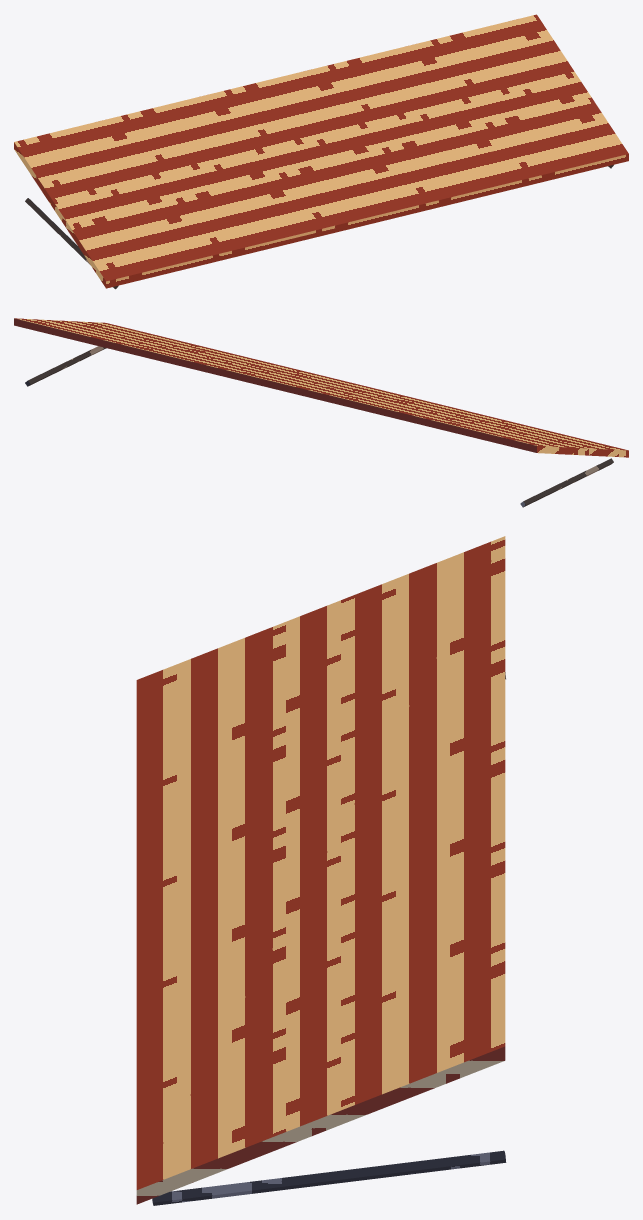
File: wtown.porch__canvas.glb
The picture shows the model from 3 angles, top to bottom: view 1: azimuth 30°, elevation 25°; view 2: azimuth 150°, elevation 25°; view 3: azimuth 270°, elevation 25°; orthographic projection. The views are drawn at different scales.
Parts seen in each view (by area): view 1: kit_roof, kit_rods; view 2: kit_roof, kit_rods; view 3: kit_roof, kit_rods.
Boxes of the visible parts, x1=… form: kit_roof: x1=14, y1=14, x2=628, y2=288; kit_rods: x1=25, y1=165, x2=613, y2=289; kit_roof: x1=14, y1=318, x2=628, y2=457; kit_rods: x1=25, y1=346, x2=613, y2=507; kit_roof: x1=136, y1=536, x2=505, y2=1204; kit_rods: x1=152, y1=672, x2=506, y2=1205.
Size of the model in its own units: 3.8 by 0.601 by 1.16.
Materials: 2 (2 with a texture image).
